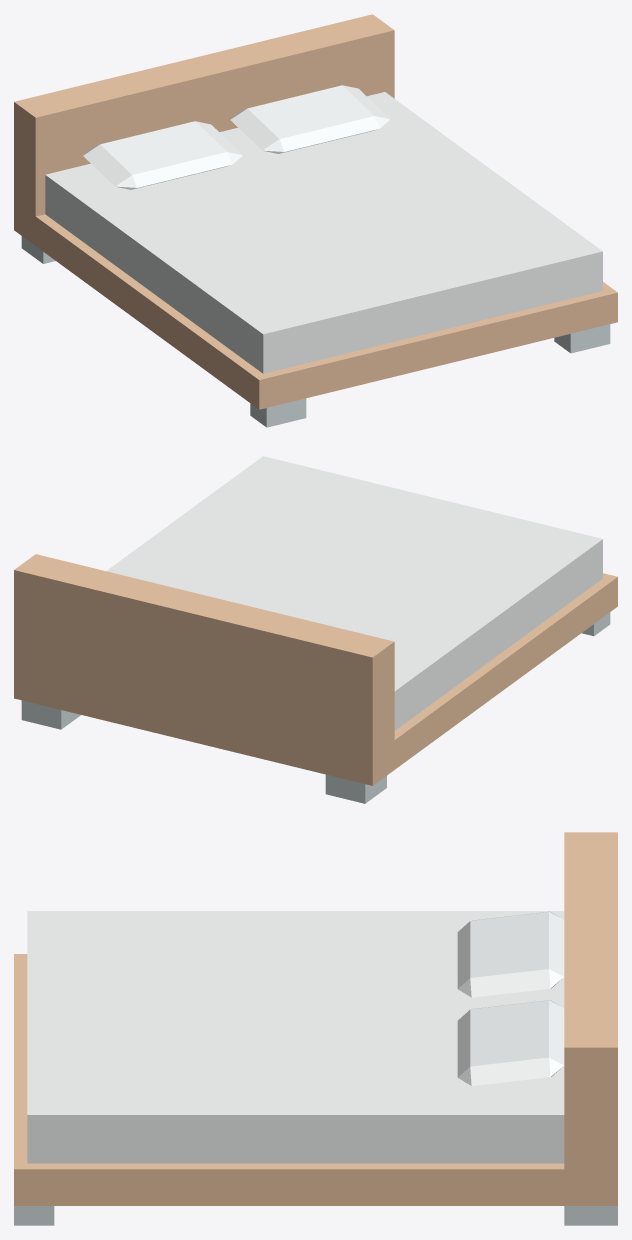
The model's file is Bedroom_Bed.glb.
3 views of the same model, one above another, from view 1: azimuth 30°, elevation 25°; view 2: azimuth 150°, elevation 25°; view 3: azimuth 270°, elevation 25° (orthographic). The views are drawn at different scales.
Visible parts, largest first — view 1: Bedroom_Bed; view 2: Bedroom_Bed; view 3: Bedroom_Bed.
Part boxes in pixels (x1,y1,x2,y2): Bedroom_Bed: (14, 14, 617, 427); Bedroom_Bed: (14, 456, 617, 803); Bedroom_Bed: (14, 832, 617, 1225).
Size of the model in its own units: 0.95 by 0.375 by 1.12.
